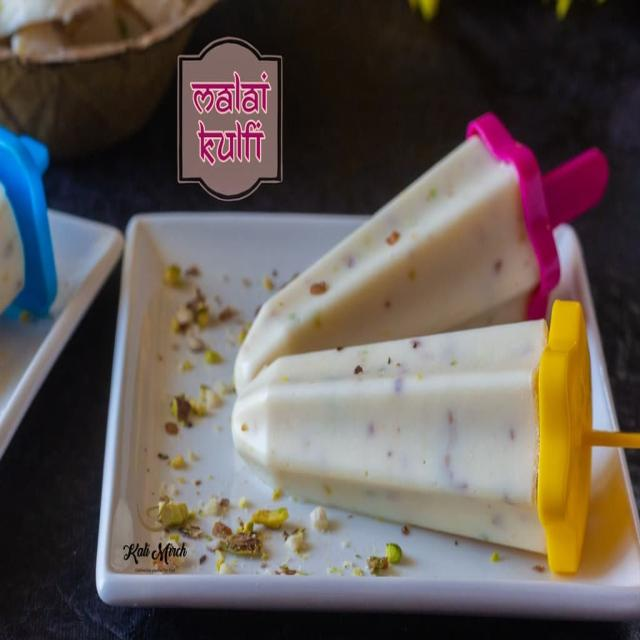kulfi: (224, 123, 545, 594)
